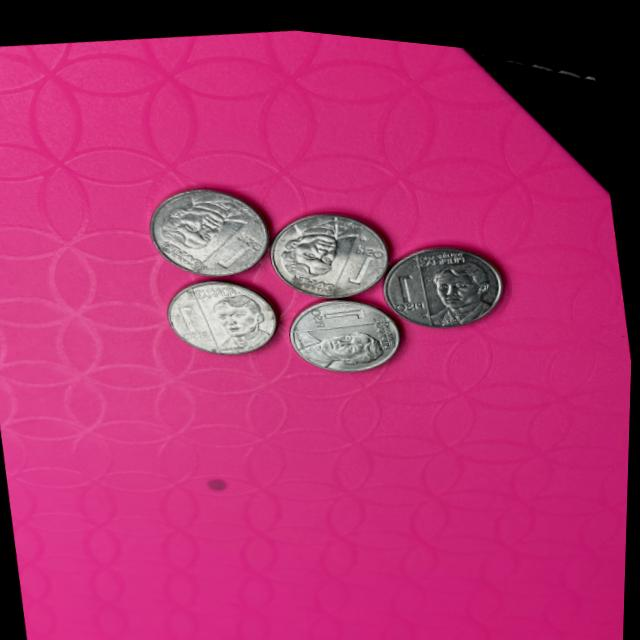1_New_Front: (334, 225, 397, 285), (206, 215, 267, 272), (308, 286, 365, 327), (172, 297, 207, 343), (393, 268, 422, 309)
